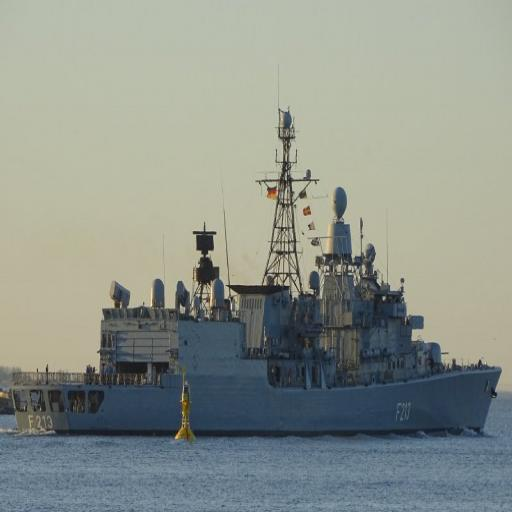Fragata: (9, 99, 505, 440)
